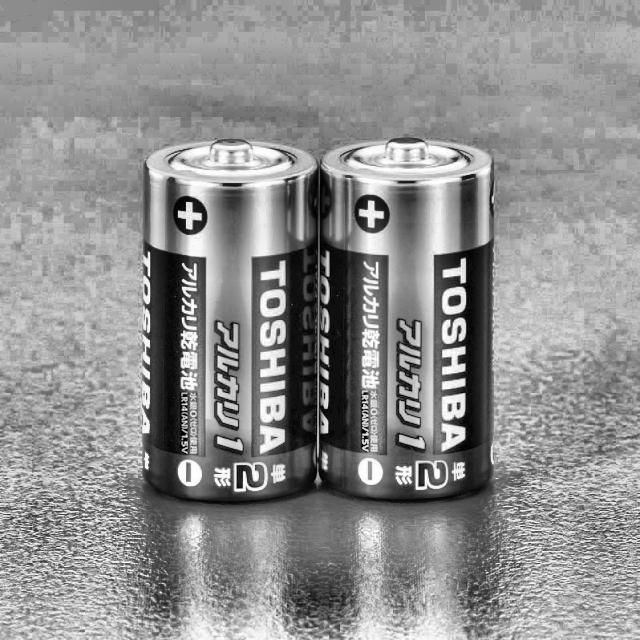drycell: (314, 134, 506, 510), (142, 136, 318, 504)
